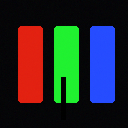4 line_v: (61, 77, 65, 119)
